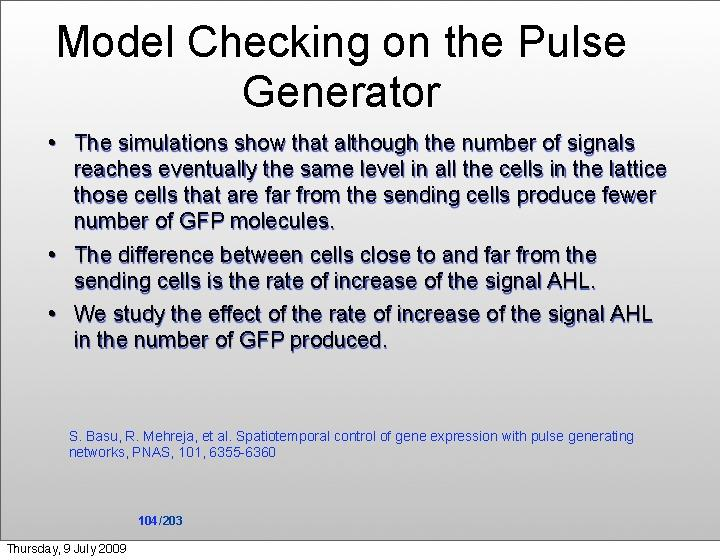paragraph: (27, 127, 709, 376)
title: (43, 2, 664, 121)
